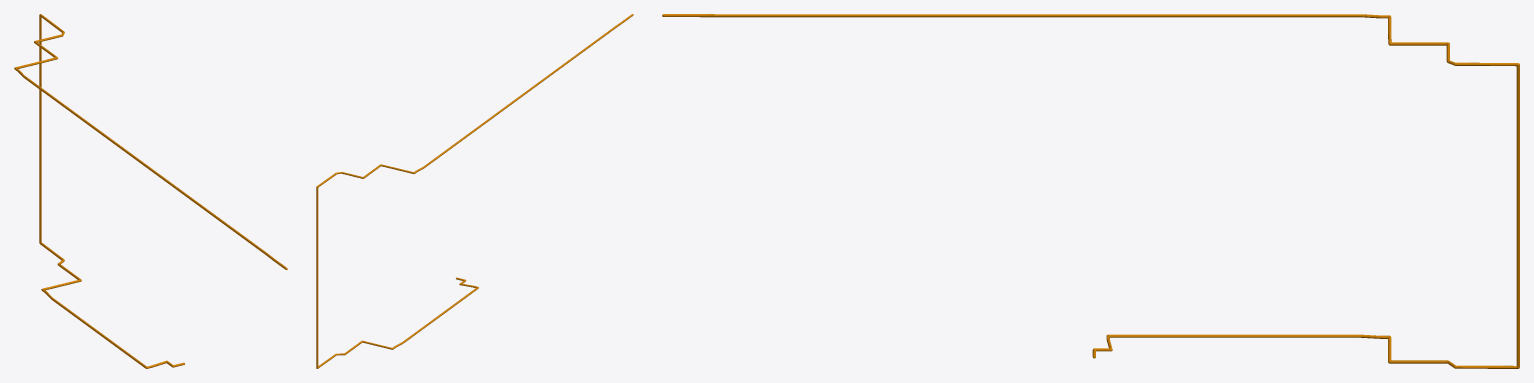
3 renders of one model, left to right at view 1: azimuth 30°, elevation 25°; view 2: azimuth 150°, elevation 25°; view 3: azimuth 270°, elevation 25°, orthographic. The views are drawn at different scales.
Size of the model in its own units: 715 by 2020 by 5135.
